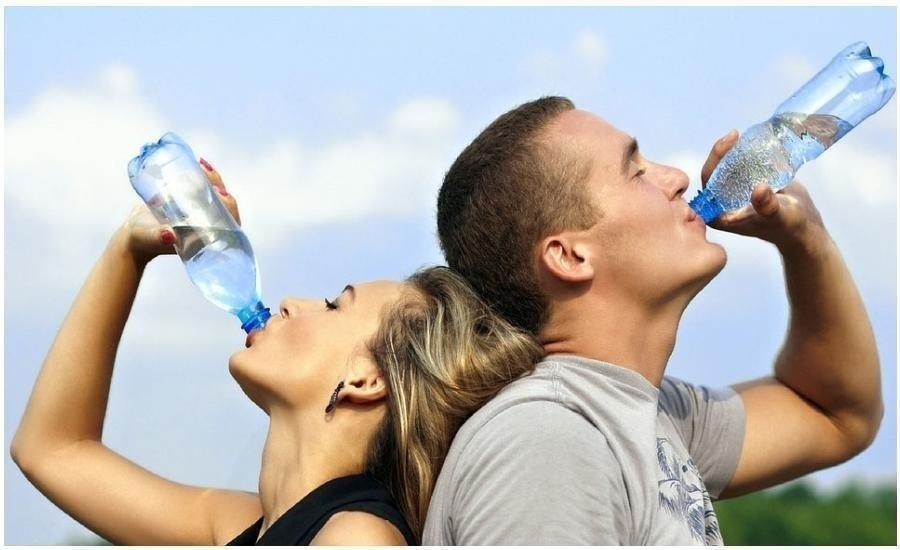bottle-plastic: (688, 37, 895, 225), (125, 128, 274, 337)
